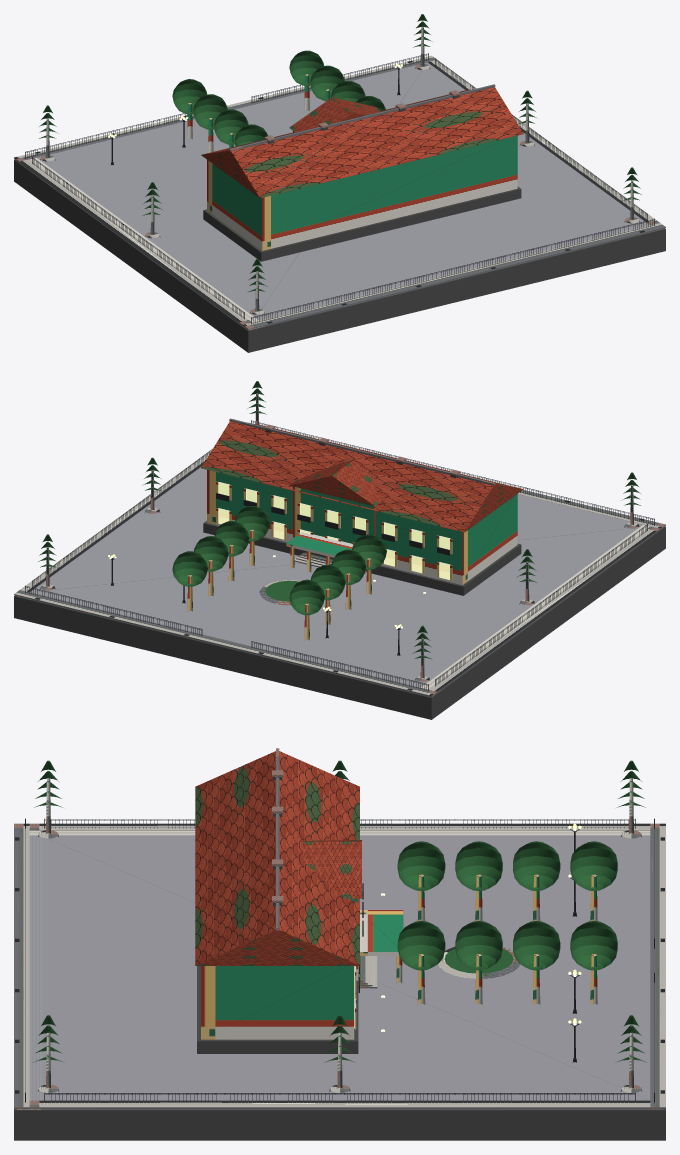
Rendered from ultra_lm_09_dinh_1_bao_dai.glb.
3 renders of one model, top to bottom at view 1: azimuth 30°, elevation 25°; view 2: azimuth 150°, elevation 25°; view 3: azimuth 270°, elevation 25°, orthographic. The views are drawn at different scales.
Visible parts, largest first — view 1: Mesh_Dinh1_Melaleuca_Avenue_WhiteGravel_Carriageway, Mesh_Dinh1_Copernicus_Minus3p5m_SplitStone_Skirt, Mesh_Dinh1_Neoclassical_GoldenOchre_Facade_And_MelaleucaTrun, Mesh_Dinh1_Marseille_Terracotta_HippedRoof_And_Ridges, Mesh_Dinh1_TranQuangDieu_GraniteCurb_WormBrick_And_Steps, Mesh_Dinh1_MelaleucaAvenue_Canopy_And_RoseParterre, Mesh_Dinh1_WroughtIron_Balconies_5GlobeLamps_And_Fountain; view 2: Mesh_Dinh1_Melaleuca_Avenue_WhiteGravel_Carriageway, Mesh_Dinh1_Copernicus_Minus3p5m_SplitStone_Skirt, Mesh_Dinh1_Marseille_Terracotta_HippedRoof_And_Ridges, Mesh_Dinh1_Neoclassical_GoldenOchre_Facade_And_MelaleucaTrun, Mesh_Dinh1_TranQuangDieu_GraniteCurb_WormBrick_And_Steps, Mesh_Dinh1_MelaleucaAvenue_Canopy_And_RoseParterre, Mesh_Dinh1_WroughtIron_Balconies_5GlobeLamps_And_Fountain, Mesh_Dinh1_CabinetHall_FrenchWindows_Blend085; view 3: Mesh_Dinh1_Melaleuca_Avenue_WhiteGravel_Carriageway, Mesh_Dinh1_Marseille_Terracotta_HippedRoof_And_Ridges, Mesh_Dinh1_Copernicus_Minus3p5m_SplitStone_Skirt, Mesh_Dinh1_TranQuangDieu_GraniteCurb_WormBrick_And_Steps, Mesh_Dinh1_MelaleucaAvenue_Canopy_And_RoseParterre, Mesh_Dinh1_Neoclassical_GoldenOchre_Facade_And_MelaleucaTrun, Mesh_Dinh1_WroughtIron_Balconies_5GlobeLamps_And_Fountain.
Part boxes in pixels (x1=…): Mesh_Dinh1_Melaleuca_Avenue_WhiteGravel_Carriageway: x1=30, y1=62, x2=663, y2=330; Mesh_Dinh1_Copernicus_Minus3p5m_SplitStone_Skirt: x1=14, y1=94, x2=665, y2=352; Mesh_Dinh1_Neoclassical_GoldenOchre_Facade_And_MelaleucaTrun: x1=187, y1=74, x2=517, y2=250; Mesh_Dinh1_Marseille_Terracotta_HippedRoof_And_Ridges: x1=201, y1=87, x2=523, y2=198; Mesh_Dinh1_TranQuangDieu_GraniteCurb_WormBrick_And_Steps: x1=14, y1=26, x2=665, y2=329; Mesh_Dinh1_MelaleucaAvenue_Canopy_And_RoseParterre: x1=39, y1=14, x2=641, y2=291; Mesh_Dinh1_WroughtIron_Balconies_5GlobeLamps_And_Fountain: x1=25, y1=53, x2=654, y2=324; Mesh_Dinh1_Melaleuca_Avenue_WhiteGravel_Carriageway: x1=16, y1=466, x2=649, y2=697; Mesh_Dinh1_Copernicus_Minus3p5m_SplitStone_Skirt: x1=14, y1=429, x2=665, y2=719; Mesh_Dinh1_Marseille_Terracotta_HippedRoof_And_Ridges: x1=201, y1=421, x2=523, y2=532; Mesh_Dinh1_Neoclassical_GoldenOchre_Facade_And_MelaleucaTrun: x1=187, y1=470, x2=517, y2=639; Mesh_Dinh1_TranQuangDieu_GraniteCurb_WormBrick_And_Steps: x1=14, y1=393, x2=665, y2=696; Mesh_Dinh1_MelaleucaAvenue_Canopy_And_RoseParterre: x1=38, y1=381, x2=640, y2=658; Mesh_Dinh1_WroughtIron_Balconies_5GlobeLamps_And_Fountain: x1=25, y1=420, x2=654, y2=691; Mesh_Dinh1_CabinetHall_FrenchWindows_Blend085: x1=218, y1=482, x2=450, y2=579; Mesh_Dinh1_Melaleuca_Avenue_WhiteGravel_Carriageway: x1=16, y1=830, x2=663, y2=1109; Mesh_Dinh1_Marseille_Terracotta_HippedRoof_And_Ridges: x1=195, y1=751, x2=361, y2=965; Mesh_Dinh1_Copernicus_Minus3p5m_SplitStone_Skirt: x1=14, y1=777, x2=665, y2=1140; Mesh_Dinh1_TranQuangDieu_GraniteCurb_WormBrick_And_Steps: x1=14, y1=748, x2=665, y2=1108; Mesh_Dinh1_MelaleucaAvenue_Canopy_And_RoseParterre: x1=33, y1=760, x2=646, y2=1062; Mesh_Dinh1_Neoclassical_GoldenOchre_Facade_And_MelaleucaTrun: x1=201, y1=874, x2=597, y2=1039; Mesh_Dinh1_WroughtIron_Balconies_5GlobeLamps_And_Fountain: x1=15, y1=818, x2=664, y2=1102.
Bounding box in the file's own units: 70 × 18.82 × 68.
9 materials, 4 textured.
